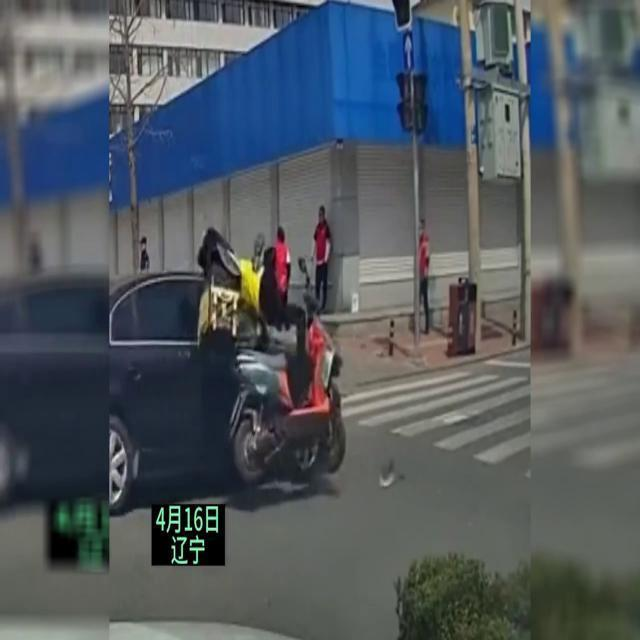accident: (112, 232, 348, 488)
